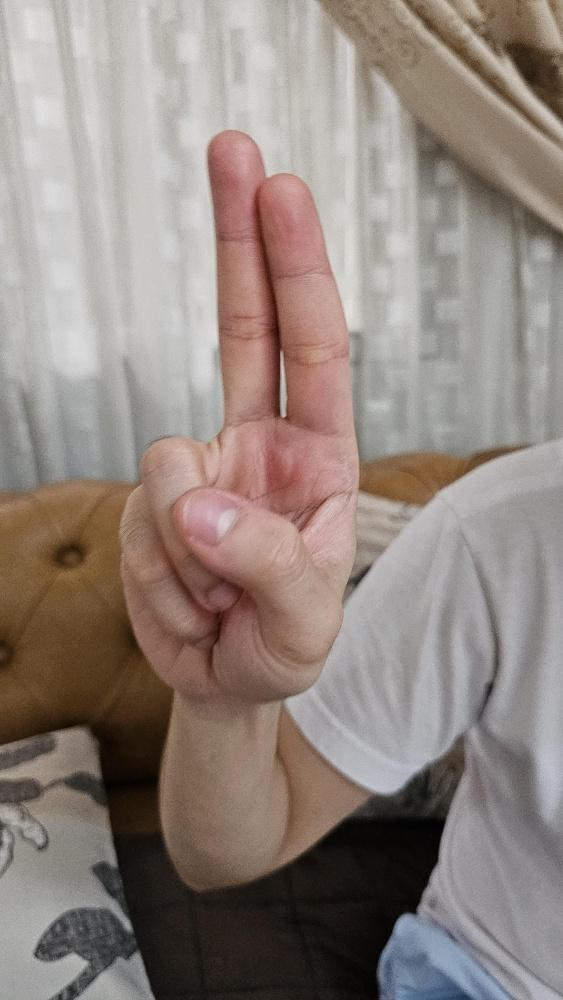u: (115, 126, 364, 708)
